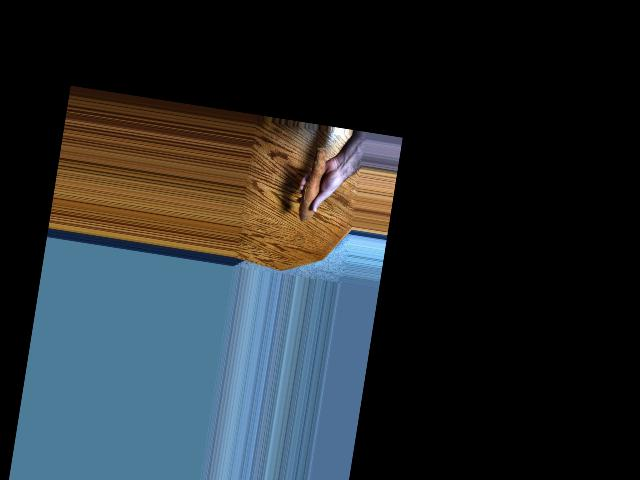sweet_potato: (297, 143, 332, 228)
